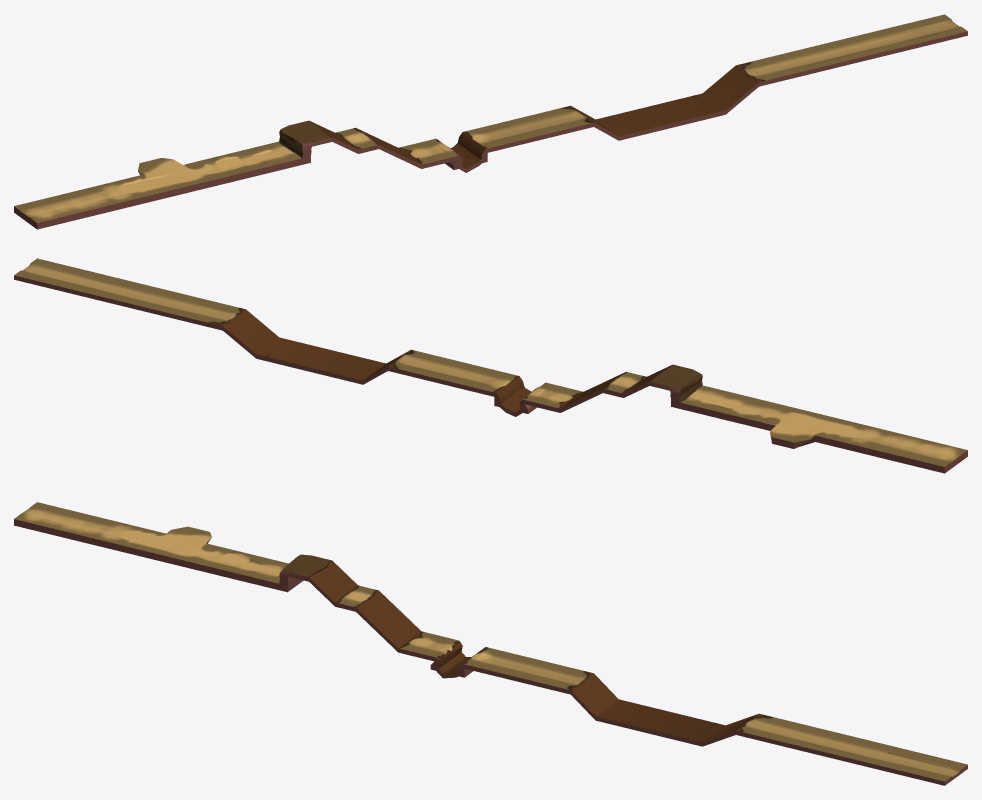
The model's file is World_Stage_Tut 1.fbx.
3 renders of one model, top to bottom at view 1: azimuth 30°, elevation 25°; view 2: azimuth 150°, elevation 25°; view 3: azimuth 330°, elevation 25°, orthographic.
Parts seen in each view (by area): view 1: World; view 2: World; view 3: World.
Part boxes in pixels (left/top/right/bottom): World: left=14, top=14, right=967, bottom=229; World: left=14, top=258, right=967, bottom=473; World: left=14, top=502, right=967, bottom=785.
Bounding box in the file's own units: 9975 × 758 × 667.
